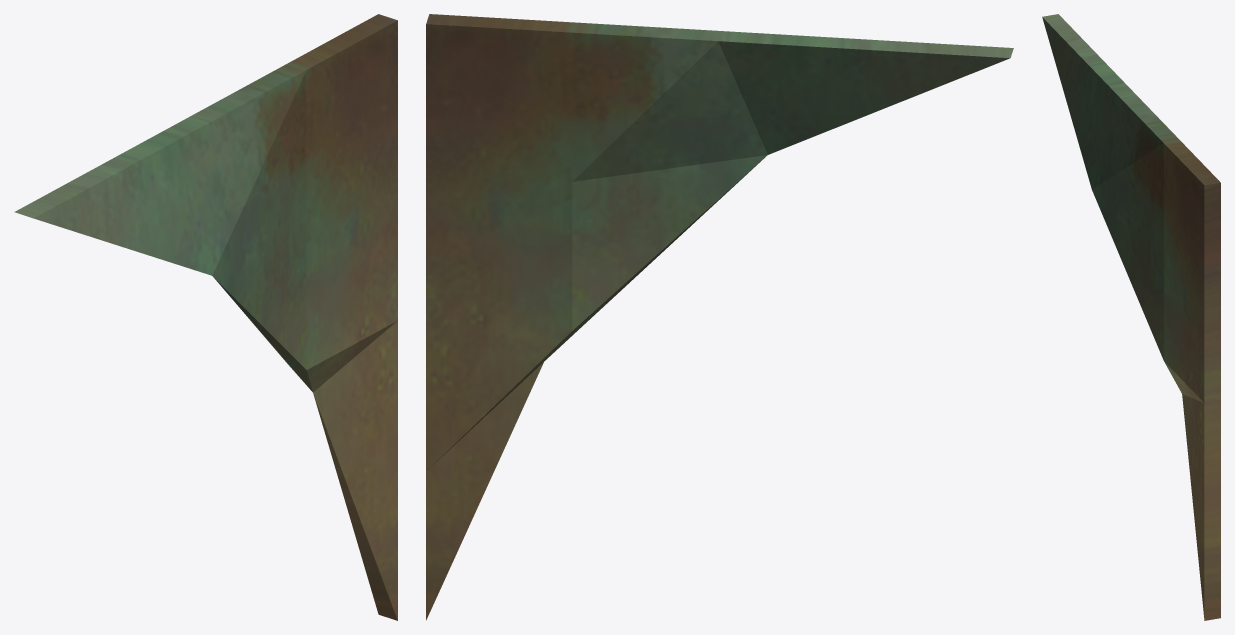
The model's file is GH_1_EmbL_6.gltf.
3 views of the same model, side by side, from view 1: azimuth 30°, elevation 25°; view 2: azimuth 150°, elevation 25°; view 3: azimuth 270°, elevation 25° (orthographic). The views are drawn at different scales.
Visible parts, largest first — view 1: GH_1_EmbL_6; view 2: GH_1_EmbL_6; view 3: GH_1_EmbL_6.
Part boxes in pixels (x1,y1,x2,y2): GH_1_EmbL_6: (14,14,397,620); GH_1_EmbL_6: (426,14,1013,620); GH_1_EmbL_6: (1042,14,1220,620).
Size of the model in its own units: 1.18 by 1.4 by 0.5207.
Materials: 1 (1 with a texture image).
